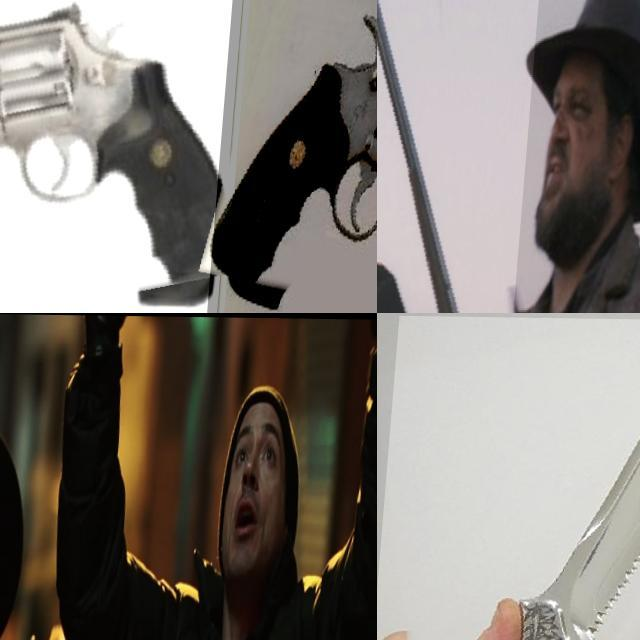-: (377, 315, 640, 640)
gun-knife-thesis - v11 Yolov5 augmented: (0, 0, 250, 313), (212, 0, 377, 313), (377, 0, 541, 313), (0, 463, 33, 640)
